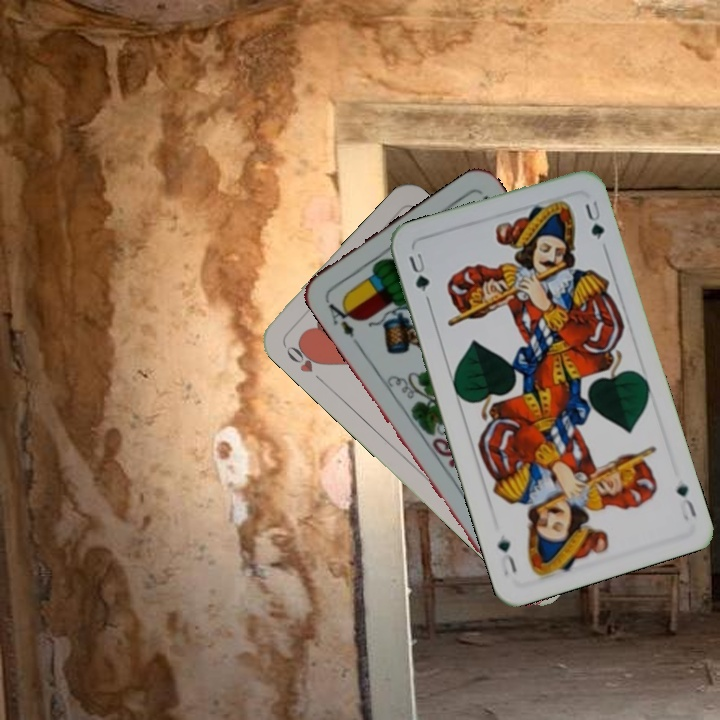EA: (324, 295, 358, 341)
GU: (404, 248, 432, 304), (672, 479, 699, 520)
HO: (281, 337, 327, 386)
